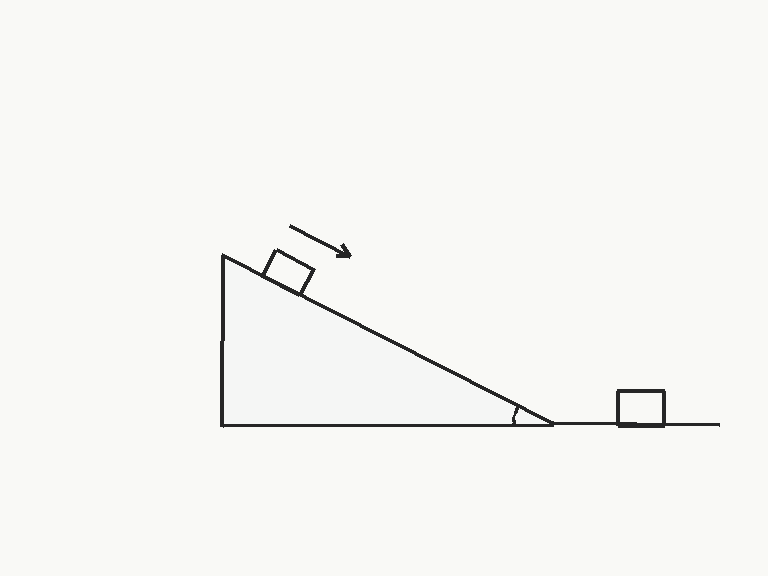block: (260, 247, 315, 298), (616, 389, 666, 427)
ramp: (220, 254, 555, 427)
